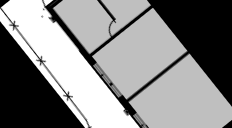door: (125, 49, 191, 104), (103, 18, 123, 39)
wall: (84, 0, 155, 60), (41, 1, 97, 67), (83, 0, 117, 22), (115, 93, 139, 119), (44, 0, 66, 12)
window: (90, 60, 125, 101), (128, 110, 167, 128)
